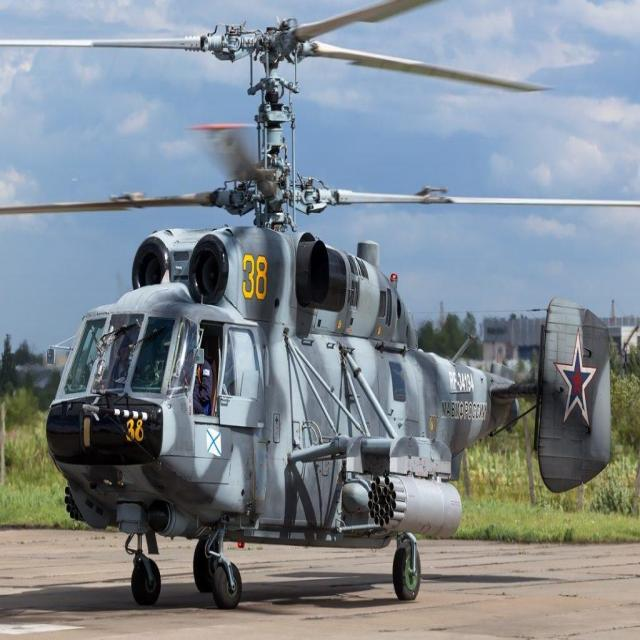MIL_HELO: (4, 0, 640, 625)
